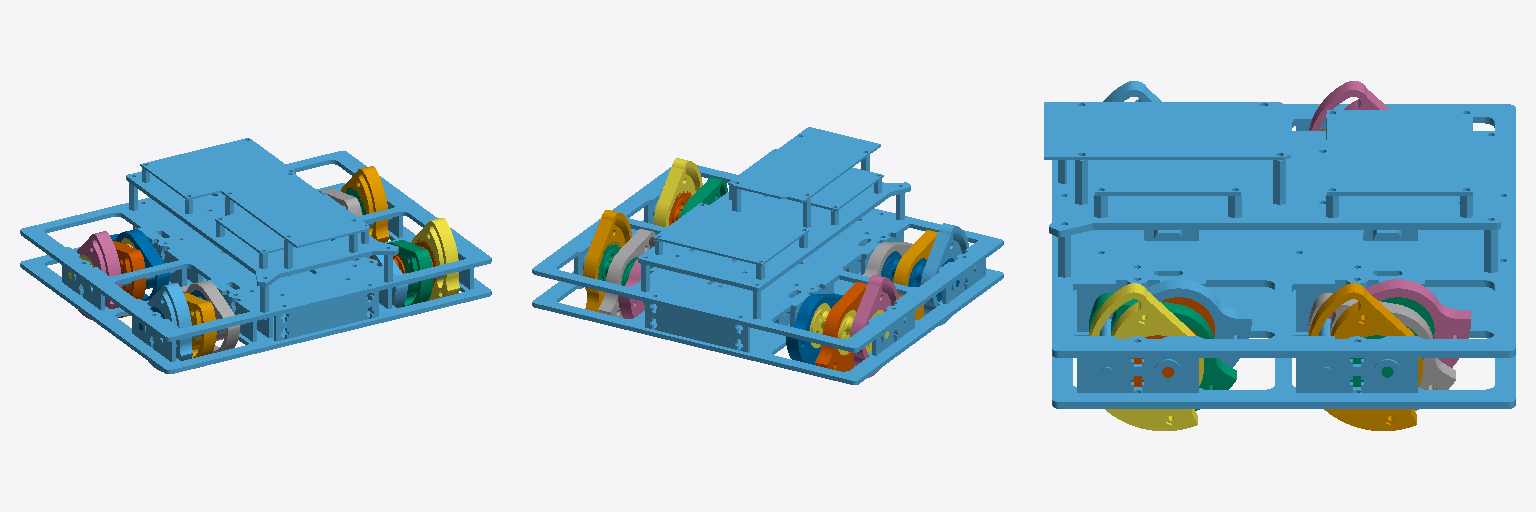
The robot description file, URDF, robot "base":
<?xml version="1.0" ?>
<robot name="base">
  <!--dummy joint-->
  <joint name="base_link_to_chassis" type="fixed">
    <parent link="base_link"/>
    <child link="chassis"/>
  </joint>

  <joint name="base_to_a" type="continuous">
    <parent link="chassis"/>
    <child link="a_crank_link"/>
    <origin rpy="0 0 0" xyz="-0.0777 0.1375 0.113"/>
    <axis xyz="1 0 0"/>
  </joint>

  <joint name="base_to_b" type="fixed">
    <parent link="chassis"/>
    <child link="b_crank_link"/>
    <origin rpy="0 0 0" xyz="-0.1623 0.1375 0.113"/>
    <axis xyz="1 0 0"/>
    <limit effort="0" lower="0" upper="0" velocity="0"/>
  </joint>

  <joint name="base_to_c" type="fixed">
    <parent link="chassis"/>
    <child link="c_crank_link"/>
    <origin rpy="0 0 0" xyz="-0.1623 0.0475 0.113"/>
    <axis xyz="1 0 0"/>
    <limit effort="0" lower="0" upper="0" velocity="0"/>
  </joint>

  <joint name="base_to_d" type="fixed">
    <parent link="chassis"/>
    <child link="d_crank_link"/>
    <origin rpy="0 0 0" xyz="-0.0777 0.0475 0.113"/>
    <axis xyz="1 0 0"/>
    <limit effort="0" lower="0" upper="0" velocity="0"/>
  </joint>

  <joint name="a_to_asi_1" type="fixed">
    <parent link="a_crank_link"/>
    <child link="asi_a_1"/>
    <origin rpy="0.78 0 0" xyz="0.015 0.00432 -0.0025"/>
    <axis xyz="1 0 0"/>
    <limit effort="0" lower="0" upper="0" velocity="0"/>
  </joint>

  <joint name="a_to_asi_2" type="fixed">
    <parent link="a_crank_link"/>
    <child link="asi_a_2"/>
    <origin rpy="0.21991  0       0" xyz="0.033  0    -0.005"/>
    <axis xyz="1 0 0"/>
    <limit effort="0" lower="0" upper="0" velocity="0"/>
  </joint>

  <joint name="a_to_asi_3" type="fixed">
    <parent link="a_crank_link"/>
    <child link="asi_a_3"/>
    <origin rpy="-0.39095 0 0" xyz="0.052 -0.00432 -0.0025"/>
    <axis xyz="1 0 0"/>
    <limit effort="0" lower="0" upper="0" velocity="0"/>
  </joint>

  <joint name="d_to_asi_1" type="fixed">
    <parent link="d_crank_link"/>
    <child link="asi_d_1"/>
    <origin rpy="0.78 0 0" xyz="0.015 0.00432 -0.0025"/>
    <axis xyz="1 0 0"/>
    <limit effort="0" lower="0" upper="0" velocity="0"/>
  </joint>

  <joint name="d_to_asi_2" type="fixed">
    <parent link="d_crank_link"/>
    <child link="asi_d_2"/>
    <origin rpy="0.21991 0 0" xyz="0.033 0 -0.005"/>
    <axis xyz="1 0 0"/>
    <limit effort="0" lower="0" upper="0" velocity="0"/>
  </joint>

  <joint name="d_to_asi_3" type="fixed">
    <parent link="d_crank_link"/>
    <child link="asi_d_3"/>
    <origin rpy="-0.39095 0 0" xyz="0.052 -0.00432 -0.0025"/>
    <axis xyz="1 0 0"/>
    <limit effort="0" lower="0" upper="0" velocity="0"/>
  </joint>

  <joint name="b_to_asi_1" type="fixed">
    <parent link="b_crank_link"/>
    <child link="asi_b_1"/>
    <origin rpy="0.78 0 0" xyz="-0.015 0.00432 -0.0025"/>
    <axis xyz="1 0 0"/>
    <limit effort="0" lower="0" upper="0" velocity="0"/>
  </joint>

  <joint name="b_to_asi_2" type="fixed">
    <parent link="b_crank_link"/>
    <child link="asi_b_2"/>
    <origin rpy="0.21991 0 0" xyz="-0.033 0 -0.005"/>
    <axis xyz="1 0 0"/>
    <limit effort="0" lower="0" upper="0" velocity="0"/>
  </joint>

  <joint name="b_to_asi_3" type="fixed">
    <parent link="b_crank_link"/>
    <child link="asi_b_3"/>
    <origin rpy="-0.39095 0 0" xyz="-0.051 -0.00432 -0.0025"/>
    <axis xyz="1 0 0"/>
    <limit effort="0" lower="0" upper="0" velocity="0"/>
  </joint>

  <joint name="c_to_asi_1" type="fixed">
    <parent link="c_crank_link"/>
    <child link="asi_c_1"/>
    <origin rpy="0.78 0 0" xyz="-0.015 0.00432 -0.0025"/>
    <axis xyz="1 0 0"/>
    <limit effort="0" lower="0" upper="0" velocity="0"/>
  </joint>

  <joint name="c_to_asi_2" type="fixed">
    <parent link="c_crank_link"/>
    <child link="asi_c_2"/>
    <origin rpy="0.21991 0 0" xyz="-0.033 0 -0.005"/>
    <axis xyz="1 0 0"/>
    <limit effort="0" lower="0" upper="0" velocity="0"/>
  </joint>

  <joint name="c_to_asi_3" type="fixed">
    <parent link="c_crank_link"/>
    <child link="asi_c_3"/>
    <origin rpy="-0.39095 0 0" xyz="-0.051 -0.00432 -0.0025"/>
    <axis xyz="1 0 0"/>
    <limit effort="0" lower="0" upper="0" velocity="0"/>
  </joint>

  <!--dummy link-->
  <link name="base_link"/>

  <link name="chassis">
    <inertial>
      <mass value="0.323853"/>
      <origin rpy="0 0 0" xyz="-0.12003 0.08857 0.02481"/>
      <inertia ixx="0.001101" ixy="-0.000000019489" ixz="-0.00000032811" iyy="0.001144" iyz="-0.00002903" izz="0.001950"/>
    </inertial>
    <collision name="collision">
      <origin rpy="0 0 0" xyz="0 0 0.1"/>
      <geometry>
        <mesh filename="package://tokuken_robot_description/models/base/base.stl" scale="1.0 1.0 1.0"/>
      </geometry>
    </collision>
    <visual name="visual">
      <origin rpy="0 0 0" xyz="0 0 0.1"/>
      <geometry>
        <mesh filename="package://tokuken_robot_description/models/base/base_ad.stl" scale="1.0 1.0 1.0"/>
      </geometry>
    </visual>
  </link>

  <link name="a_crank_link">
    <inertial>
      <mass value="0.094516"/>
      <origin rpy="0 0 0" xyz="0.03743 -0.00054 -0.00311"/>
      <inertia ixx="0.00001618" ixy="0.000004583807" ixz="0.000000791555" iyy="0.00002918" iyz="-0.000000161333" izz="0.00003007"/>
    </inertial>
    <collision name="collision">
      <origin rpy="0 0 0" xyz="0 0 0"/>
      <geometry>
        <mesh filename="package://tokuken_robot_description/models/base/crank1.stl" scale="1.0 1.0 1.0"/>
      </geometry>
    </collision>
    <visual name="visual">
      <origin rpy="0 0 0" xyz="0 0 0"/>
      <geometry>
        <mesh filename="package://tokuken_robot_description/models/base/crank1_ad.stl" scale="1.0 1.0 1.0"/>
      </geometry>
    </visual>
  </link>

  <link name="b_crank_link">
    <inertial>
      <mass value="0.094516"/>
      <origin rpy="0 0 0" xyz="0.03743 0 -0.00315"/>
      <inertia ixx="0.00001618" ixy="-0.00000465162" ixz="0.000000016441" iyy="0.00002915" iyz="0.0000000000001060" izz="0.00003010"/>
    </inertial>
    <collision name="collision">
      <origin rpy="0 0 0" xyz="0 0 0"/>
      <geometry>
        <mesh filename="package://tokuken_robot_description/models/base/crank2.stl" scale="1.0 1.0 1.0"/>
      </geometry>
    </collision>
    <visual name="visual">
      <origin rpy="0 0 0" xyz="0 0 0"/>
      <geometry>
        <mesh filename="package://tokuken_robot_description/models/base/crank2_ad.stl" scale="1.0 1.0 1.0"/>
      </geometry>
    </visual>
  </link>

  <link name="c_crank_link">
    <inertial>
      <mass value="0.094516"/>
      <origin rpy="0 0 0" xyz="0.03743 0 -0.00315"/>
      <inertia ixx="0.00001618" ixy="-0.00000465162" ixz="0.000000016441" iyy="0.00002915" iyz="0.0000000000001060" izz="0.00003010"/>
    </inertial>
    <collision name="collision">
      <origin rpy="0 0 0" xyz="0 0 0"/>
      <geometry>
        <mesh filename="package://tokuken_robot_description/models/base/crank2.stl" scale="1.0 1.0 1.0"/>
      </geometry>
    </collision>
    <visual name="visual">
      <origin rpy="0 0 0" xyz="0 0 0"/>
      <geometry>
        <mesh filename="package://tokuken_robot_description/models/base/crank2_ad.stl" scale="1.0 1.0 1.0"/>
      </geometry>
    </visual>
  </link>

  <link name="d_crank_link">
    <inertial>
      <mass value="0.094516"/>
      <origin rpy="0 0 0" xyz="0.03743 -0.00054 -0.00311"/>
      <inertia ixx="0.00001618" ixy="0.000004583807" ixz="0.000000791555" iyy="0.00002918" iyz="-0.000000161333" izz="0.00003007"/>
    </inertial>
    <collision name="collision">
      <origin rpy="0 0 0" xyz="0 0 0"/>
      <geometry>
        <mesh filename="package://tokuken_robot_description/models/base/crank1.stl" scale="1.0 1.0 1.0"/>
      </geometry>
    </collision>
    <visual name="visual">
      <origin rpy="0 0 0" xyz="0 0 0"/>
      <geometry>
        <mesh filename="package://tokuken_robot_description/models/base/crank1_ad.stl" scale="1.0 1.0 1.0"/>
      </geometry>
    </visual>
  </link>

  <link name="asi_a_1">
    <inertial>
      <mass value="0.010706"/>
      <origin rpy="0 0 0" xyz="0.00448 -0.00563 -0.00377"/>
      <inertia ixx="0.000005401807" ixy="0.000000000185" ixz="0.000000000496" iyy="0.000003139093" iyz="-0.00000098431" izz="0.000002411247"/>
    </inertial>
    <collision name="collision">
      <origin rpy="0 0 0" xyz="0 0 0"/>
      <geometry>
        <mesh filename="package://tokuken_robot_description/models/base/asi.stl" scale="1.0 1.0 1.0"/>
      </geometry>
    </collision>
    <visual name="visual">
      <origin rpy="0 0 0" xyz="0 0 0"/>
      <geometry>
        <mesh filename="package://tokuken_robot_description/models/base/asi_ad.stl" scale="1.0 1.0 1.0"/>
      </geometry>
    </visual>
  </link>

  <link name="asi_a_2">
    <inertial>
      <mass value="0.010706"/>
      <origin rpy="0 0 0" xyz="0.00448 -0.00563 -0.00377"/>
      <inertia ixx="0.000005401807" ixy="0.000000000185" ixz="0.000000000496" iyy="0.000003139093" iyz="-0.00000098431" izz="0.000002411247"/>
    </inertial>
    <collision name="collision">
      <origin rpy="0 0 0" xyz="0 0 0"/>
      <geometry>
        <mesh filename="package://tokuken_robot_description/models/base/asi.stl" scale="1.0 1.0 1.0"/>
      </geometry>
    </collision>
    <visual name="visual">
      <origin rpy="0 0 0" xyz="0 0 0"/>
      <geometry>
        <mesh filename="package://tokuken_robot_description/models/base/asi_ad.stl" scale="1.0 1.0 1.0"/>
      </geometry>
    </visual>
  </link>

  <link name="asi_a_3">
    <inertial>
      <mass value="0.010706"/>
      <origin rpy="0 0 0" xyz="0.00448 -0.00563 -0.00377"/>
      <inertia ixx="0.000005401807" ixy="0.000000000185" ixz="0.000000000496" iyy="0.000003139093" iyz="-0.00000098431" izz="0.000002411247"/>
    </inertial>
    <collision name="collision">
      <origin rpy="0 0 0" xyz="0 0 0"/>
      <geometry>
        <mesh filename="package://tokuken_robot_description/models/base/asi.stl" scale="1.0 1.0 1.0"/>
      </geometry>
    </collision>
    <visual name="visual">
      <origin rpy="0 0 0" xyz="0 0 0"/>
      <geometry>
        <mesh filename="package://tokuken_robot_description/models/base/asi_ad.stl" scale="1.0 1.0 1.0"/>
      </geometry>
    </visual>
  </link>

  <link name="asi_d_1">
    <inertial>
      <mass value="0.010706"/>
      <origin rpy="0 0 0" xyz="0.00448 -0.00563 -0.00377"/>
      <inertia ixx="0.000005401807" ixy="0.000000000185" ixz="0.000000000496" iyy="0.000003139093" iyz="-0.00000098431" izz="0.000002411247"/>
    </inertial>
    <collision name="collision">
      <origin rpy="0 0 0" xyz="0 0 0"/>
      <geometry>
        <mesh filename="package://tokuken_robot_description/models/base/asi.stl" scale="1.0 1.0 1.0"/>
      </geometry>
    </collision>
    <visual name="visual">
      <origin rpy="0 0 0" xyz="0 0 0"/>
      <geometry>
        <mesh filename="package://tokuken_robot_description/models/base/asi_ad.stl" scale="1.0 1.0 1.0"/>
      </geometry>
    </visual>
  </link>

  <link name="asi_d_2">
    <inertial>
      <mass value="0.010706"/>
      <origin rpy="0 0 0" xyz="0.00448 -0.00563 -0.00377"/>
      <inertia ixx="0.000005401807" ixy="0.000000000185" ixz="0.000000000496" iyy="0.000003139093" iyz="-0.00000098431" izz="0.000002411247"/>
    </inertial>
    <collision name="collision">
      <origin rpy="0 0 0" xyz="0 0 0"/>
      <geometry>
        <mesh filename="package://tokuken_robot_description/models/base/asi.stl" scale="1.0 1.0 1.0"/>
      </geometry>
    </collision>
    <visual name="visual">
      <origin rpy="0 0 0" xyz="0 0 0"/>
      <geometry>
        <mesh filename="package://tokuken_robot_description/models/base/asi_ad.stl" scale="1.0 1.0 1.0"/>
      </geometry>
    </visual>
  </link>

  <link name="asi_d_3">
    <inertial>
      <mass value="0.010706"/>
      <origin rpy="0 0 0" xyz="0.00448 -0.00563 -0.00377"/>
      <inertia ixx="0.000005401807" ixy="0.000000000185" ixz="0.000000000496" iyy="0.000003139093" iyz="-0.00000098431" izz="0.000002411247"/>
    </inertial>
    <collision name="collision">
      <origin rpy="0 0 0" xyz="0 0 0"/>
      <geometry>
        <mesh filename="package://tokuken_robot_description/models/base/asi.stl" scale="1.0 1.0 1.0"/>
      </geometry>
    </collision>
    <visual name="visual">
      <origin rpy="0 0 0" xyz="0 0 0"/>
      <geometry>
        <mesh filename="package://tokuken_robot_description/models/base/asi_ad.stl" scale="1.0 1.0 1.0"/>
      </geometry>
    </visual>
  </link>

  <link name="asi_b_1">
    <inertial>
      <mass value="0.010706"/>
      <origin rpy="0 0 0" xyz="-0.00451 -0.00563 -0.00377"/>
      <inertia ixx="0.000005401807" ixy="0.000000000185" ixz="0.000000000496" iyy="0.000003139093" iyz="-0.00000098431" izz="0.000002411247"/>
    </inertial>
    <collision name="collision">
      <origin rpy="0 0 0" xyz="0 0 0"/>
      <geometry>
        <mesh filename="package://tokuken_robot_description/models/base/asi_2.stl" scale="1.0 1.0 1.0"/>
      </geometry>
    </collision>
    <visual name="visual">
      <origin rpy="0 0 0" xyz="0 0 0"/>
      <geometry>
        <mesh filename="package://tokuken_robot_description/models/base/asi_2_ad.stl" scale="1.0 1.0 1.0"/>
      </geometry>
    </visual>
  </link>

  <link name="asi_b_2">
    <inertial>
      <mass value="0.010706"/>
      <origin rpy="0 0 0" xyz="-0.00451 -0.00563 -0.00377"/>
      <inertia ixx="0.000005401807" ixy="0.000000000185" ixz="0.000000000496" iyy="0.000003139093" iyz="-0.00000098431" izz="0.000002411247"/>
    </inertial>
    <collision name="collision">
      <origin rpy="0 0 0" xyz="0 0 0"/>
      <geometry>
        <mesh filename="package://tokuken_robot_description/models/base/asi_2.stl" scale="1.0 1.0 1.0"/>
      </geometry>
    </collision>
    <visual name="visual">
      <origin rpy="0 0 0" xyz="0 0 0"/>
      <geometry>
        <mesh filename="package://tokuken_robot_description/models/base/asi_2_ad.stl" scale="1.0 1.0 1.0"/>
      </geometry>
    </visual>
  </link>

  <link name="asi_b_3">
    <inertial>
      <mass value="0.010706"/>
      <origin rpy="0 0 0" xyz="-0.00451 -0.00563 -0.00377"/>
      <inertia ixx="0.000005401807" ixy="0.000000000185" ixz="0.000000000496" iyy="0.000003139093" iyz="-0.00000098431" izz="0.000002411247"/>
    </inertial>
    <collision name="collision">
      <origin rpy="0 0 0" xyz="0 0 0"/>
      <geometry>
        <mesh filename="package://tokuken_robot_description/models/base/asi_2.stl" scale="1.0 1.0 1.0"/>
      </geometry>
    </collision>
    <visual name="visual">
      <origin rpy="0 0 0" xyz="0 0 0"/>
      <geometry>
        <mesh filename="package://tokuken_robot_description/models/base/asi_2_ad.stl" scale="1.0 1.0 1.0"/>
      </geometry>
    </visual>
  </link>

  <link name="asi_c_1">
    <inertial>
      <mass value="0.010706"/>
      <origin rpy="0 0 0" xyz="-0.00451 -0.00563 -0.00377"/>
      <inertia ixx="0.000005401807" ixy="0.000000000185" ixz="0.000000000496" iyy="0.000003139093" iyz="-0.00000098431" izz="0.000002411247"/>
    </inertial>
    <collision name="collision">
      <origin rpy="0  0  0" xyz="0  0  0"/>
      <geometry>
        <mesh filename="package://tokuken_robot_description/models/base/asi_2.stl" scale="1.0 1.0 1.0"/>
      </geometry>
    </collision>
    <visual name="visual">
      <origin rpy="0 0 0" xyz="0 0 0"/>
      <geometry>
        <mesh filename="package://tokuken_robot_description/models/base/asi_2_ad.stl" scale="1.0 1.0 1.0"/>
      </geometry>
    </visual>
  </link>

  <link name="asi_c_2">
    <inertial>
      <mass value="0.010706"/>
      <origin rpy="0 0 0" xyz="-0.00451 -0.00563 -0.00377"/>
      <inertia ixx="0.000005401807" ixy="0.000000000185" ixz="0.000000000496" iyy="0.000003139093" iyz="-0.00000098431" izz="0.000002411247"/>
    </inertial>
    <collision name="collision">
      <origin rpy="0 0 0" xyz="0 0 0"/>
      <geometry>
        <mesh filename="package://tokuken_robot_description/models/base/asi_2.stl" scale="1.0 1.0 1.0"/>
      </geometry>
    </collision>
    <visual name="visual">
      <origin rpy="0 0 0" xyz="0 0 0"/>
      <geometry>
        <mesh filename="package://tokuken_robot_description/models/base/asi_2_ad.stl" scale="1.0 1.0 1.0"/>
      </geometry>
    </visual>
  </link>

  <link name="asi_c_3">
    <inertial>
      <mass value="0.010706"/>
      <origin rpy="0 0 0" xyz="-0.00451 -0.00563 -0.00377"/>
      <inertia ixx="0.000005401807" ixy="0.000000000185" ixz="0.000000000496" iyy="0.000003139093" iyz="-0.00000098431" izz="0.000002411247"/>
    </inertial>
    <collision name="collision">
      <origin rpy="0 0 0" xyz="0 0 0"/>
      <geometry>
        <mesh filename="package://tokuken_robot_description/models/base/asi_2.stl" scale="1.0 1.0 1.0"/>
      </geometry>
    </collision>
    <visual name="visual">
      <origin rpy="0 0 0" xyz="0 0 0"/>
      <geometry>
        <mesh filename="package://tokuken_robot_description/models/base/asi_2_ad.stl" scale="1.0 1.0 1.0"/>
      </geometry>
    </visual>
  </link>
</robot>

--- What the picture shows (computed from the rendered views, not written in the file) ---
The picture shows the robot from 3 angles, left to right: view 1: azimuth 30°, elevation 25°; view 2: azimuth 150°, elevation 25°; view 3: azimuth 270°, elevation 25°; orthographic projection.
Model base with 18 links and 17 joints (1 continuous, 16 fixed), rooted at base_link, posed every joint at zero.
Links seen in each view (by area): view 1: chassis, asi_d_3, asi_a_3, asi_c_3, asi_d_2, asi_b_3, asi_c_1, asi_b_1, asi_c_2, asi_b_2; view 2: chassis, asi_a_3, asi_b_2, asi_d_3, asi_b_3, asi_c_3, asi_a_2, asi_b_1, asi_c_2, b_crank_link, asi_d_2, c_crank_link (+3 smaller); view 3: chassis, asi_a_3, asi_d_3, asi_d_1, asi_a_1, asi_a_2, asi_d_2, asi_b_3, a_crank_link, d_crank_link, asi_c_3.
Link boxes in pixels (left/top/right/bottom): chassis: left=20, top=138, right=491, bottom=373; asi_d_3: left=411, top=218, right=459, bottom=300; asi_a_3: left=341, top=166, right=389, bottom=242; asi_c_3: left=147, top=283, right=192, bottom=371; asi_d_2: left=387, top=240, right=432, bottom=315; asi_b_3: left=77, top=231, right=121, bottom=319; asi_c_1: left=181, top=281, right=239, bottom=352; asi_b_1: left=110, top=229, right=169, bottom=300; asi_c_2: left=184, top=293, right=216, bottom=368; asi_b_2: left=113, top=241, right=145, bottom=317; chassis: left=532, top=127, right=1003, bottom=384; asi_a_3: left=583, top=210, right=631, bottom=312; asi_b_2: left=815, top=282, right=866, bottom=371; asi_d_3: left=654, top=158, right=702, bottom=227; asi_b_3: left=850, top=275, right=898, bottom=377; asi_c_3: left=920, top=223, right=968, bottom=325; asi_a_2: left=598, top=229, right=655, bottom=318; asi_b_1: left=786, top=293, right=842, bottom=364; asi_c_2: left=893, top=230, right=937, bottom=319; b_crank_link: left=810, top=303, right=888, bottom=354; asi_d_2: left=679, top=177, right=727, bottom=217; c_crank_link: left=881, top=251, right=959, bottom=301; chassis: left=1044, top=102, right=1515, bottom=408; asi_a_3: left=1309, top=283, right=1422, bottom=430; asi_d_3: left=1089, top=283, right=1203, bottom=430; asi_d_1: left=1099, top=279, right=1251, bottom=367; asi_a_1: left=1318, top=279, right=1470, bottom=367; asi_a_2: left=1308, top=293, right=1455, bottom=410; asi_d_2: left=1089, top=293, right=1236, bottom=410; asi_b_3: left=1309, top=81, right=1389, bottom=130; a_crank_link: left=1350, top=297, right=1434, bottom=386; d_crank_link: left=1131, top=297, right=1214, bottom=386; asi_c_3: left=1103, top=81, right=1161, bottom=101.
Bounding box of the posed robot: 0.24 × 0.1932 × 0.0906 m (x, y, z).
17 mesh visuals loaded from 5 distinct referenced files (5 binary STL).
